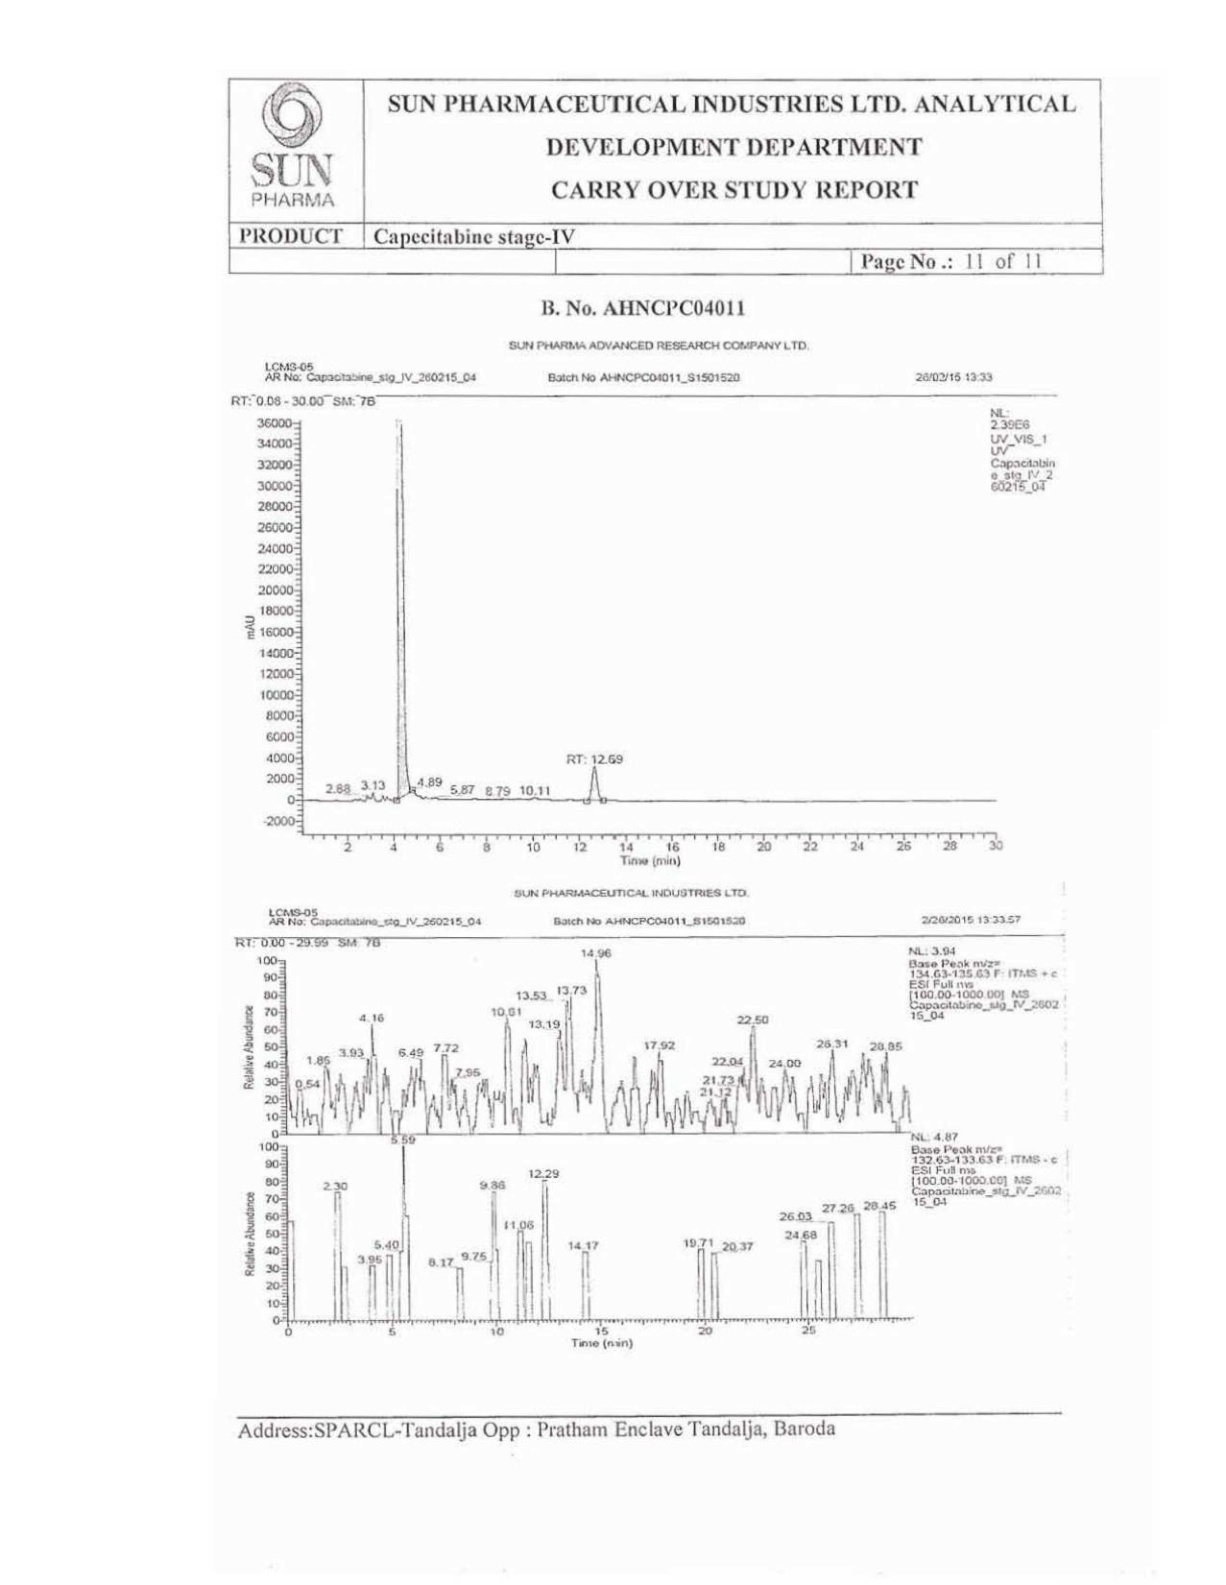merged_cells: (226, 77, 1105, 277)
